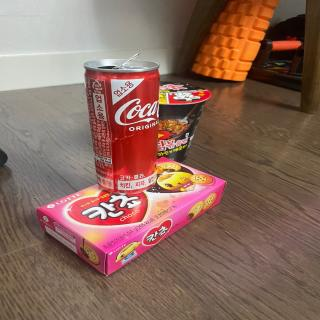cocacola: (77, 53, 168, 192)
